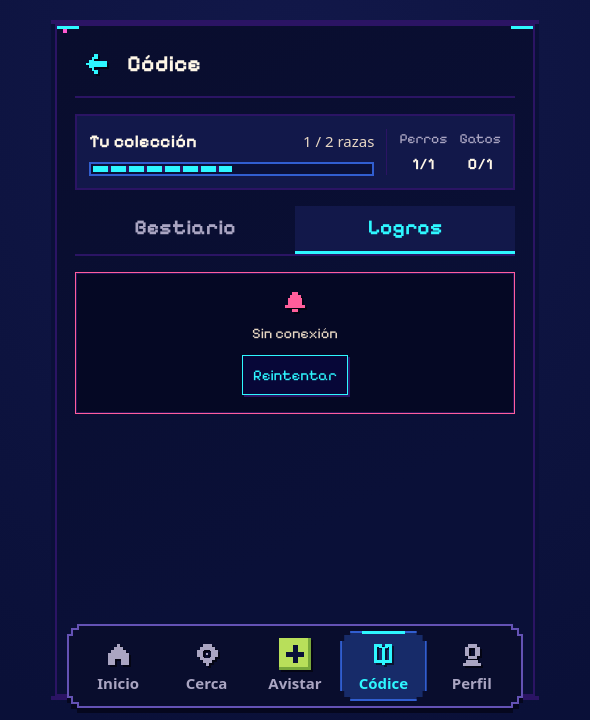
Test: retries failed achievement loading
This screenshot has width=590, height=720.
Check: the text "Sin conexión" is shown, box [252,325,338,343]
Click the button "Reintentar" at [295, 375], box [242,355,348,395]
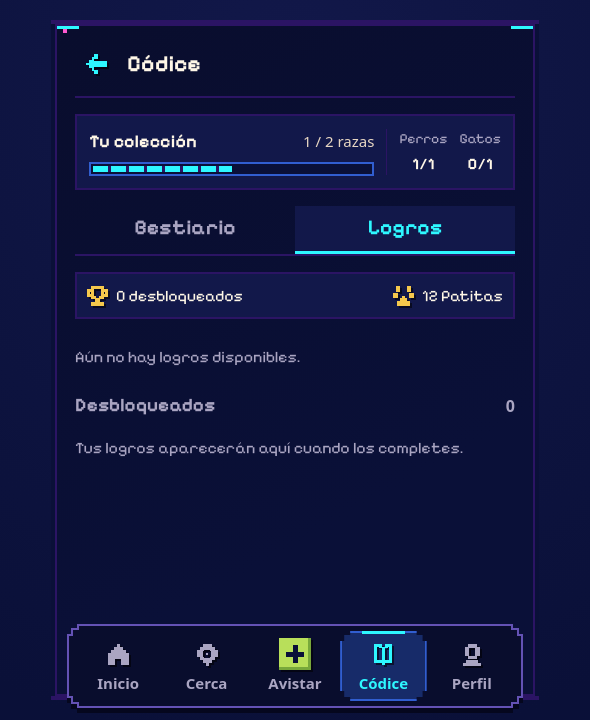
Check: the text "Aún no hay logros disponibles." is shown, box [75,347,300,366]
